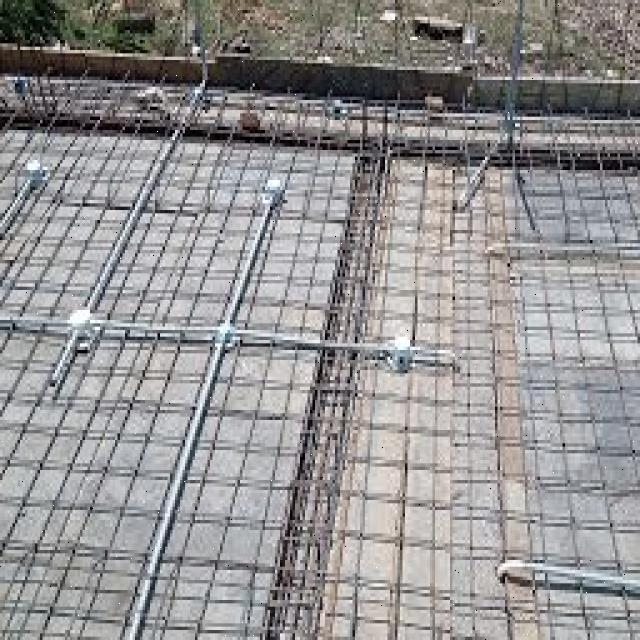Plumbing and Electrical: (12, 133, 640, 640)
